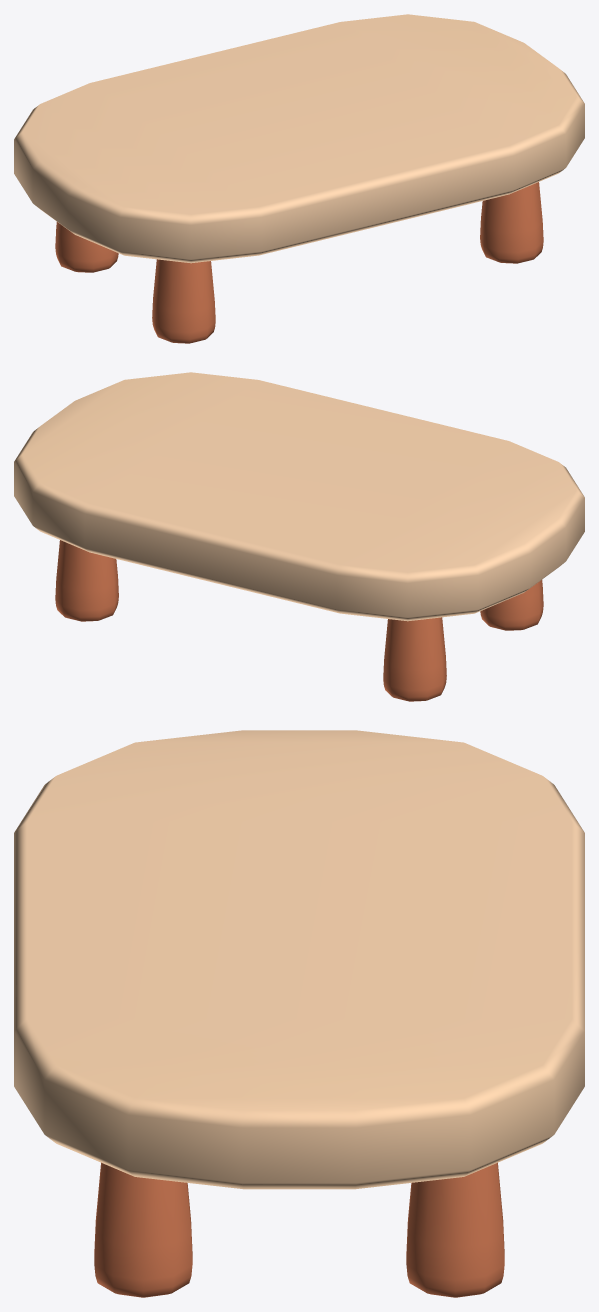
File: Decor_Bandai.fbx
The picture shows the model from 3 angles, top to bottom: view 1: azimuth 30°, elevation 25°; view 2: azimuth 150°, elevation 25°; view 3: azimuth 270°, elevation 25°; orthographic projection. The views are drawn at different scales.
Parts seen in each view (by area): view 1: Decor_Bandai; view 2: Decor_Bandai; view 3: Decor_Bandai.
Boxes of the visible parts, <box> form: Decor_Bandai: <box>14,14,584,343</box>; Decor_Bandai: <box>14,372,584,701</box>; Decor_Bandai: <box>14,730,584,1297</box>.
Bounding box in the file's own units: 266 × 73.24 × 164.
